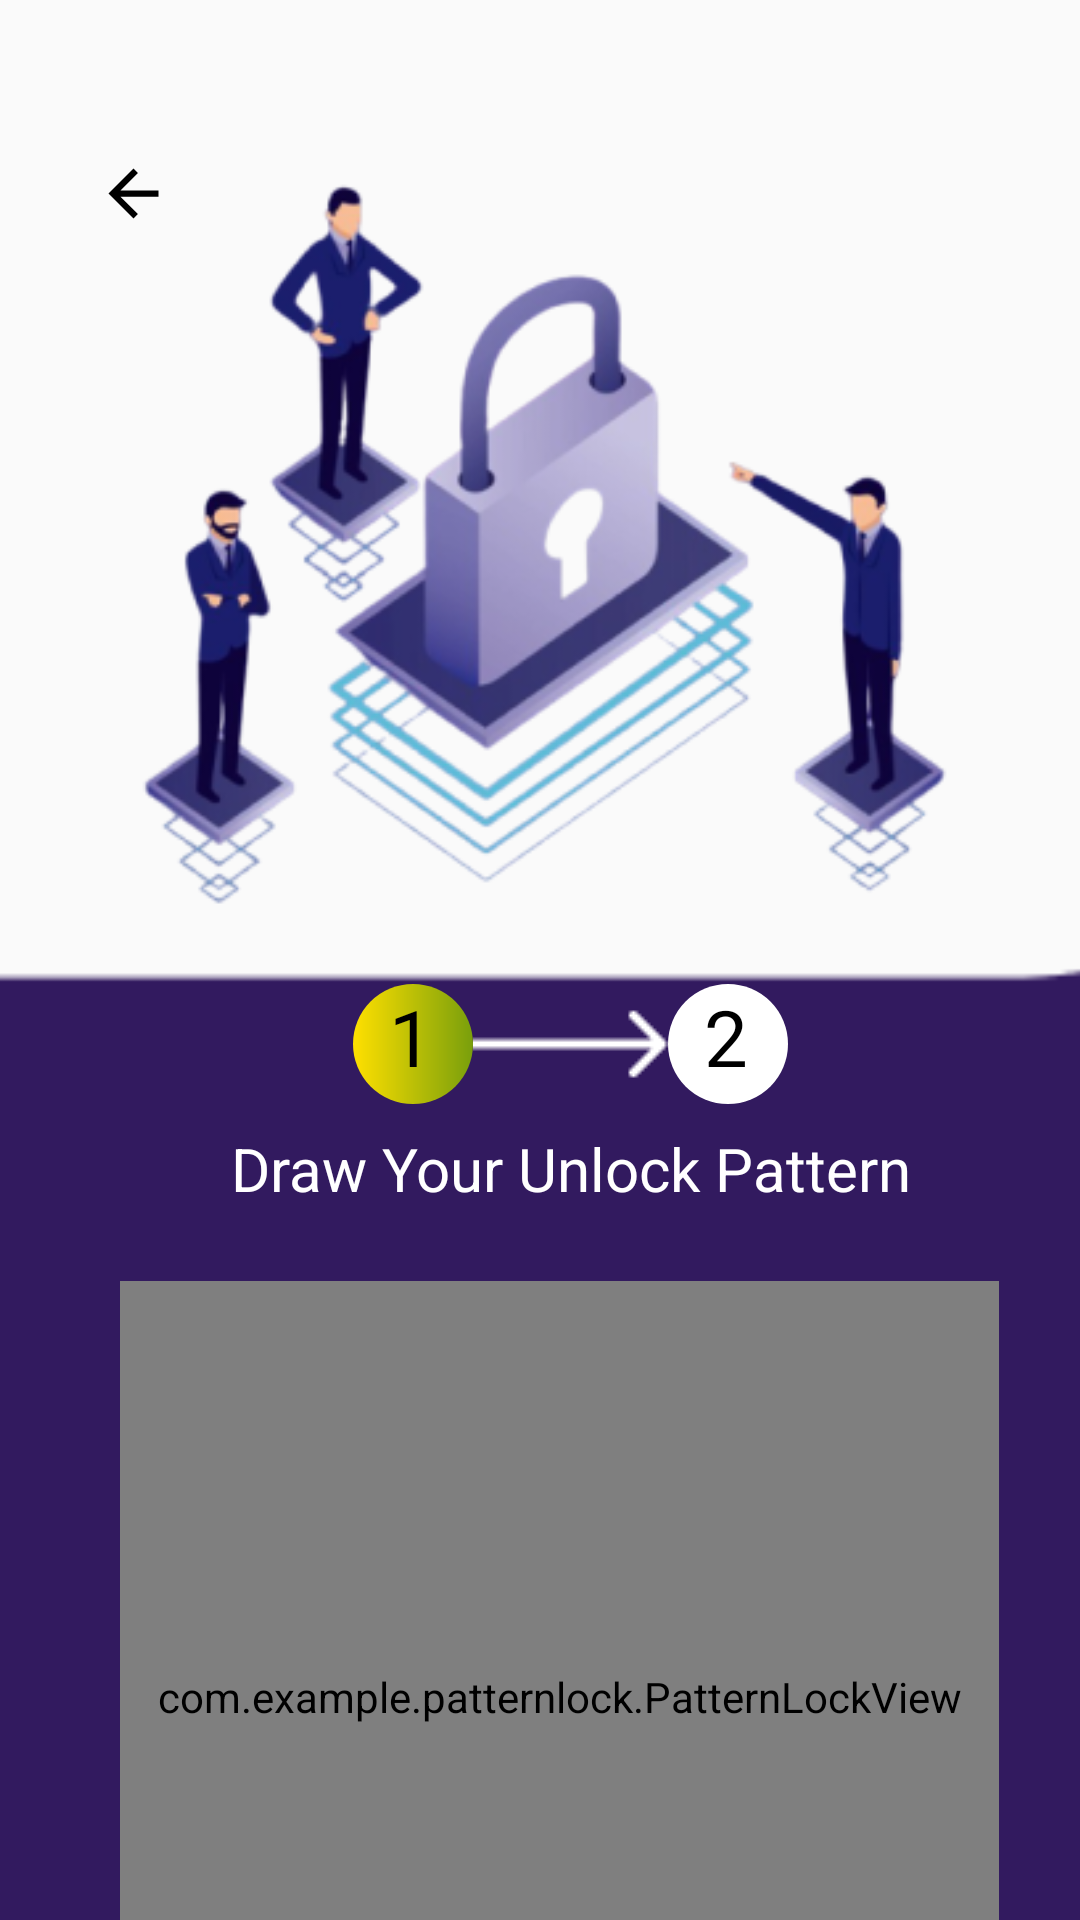

Screen size 1080w x 1920h. Icon name, then its center in pixels as (x,y):
arrow back: (133,193)
whitearrow: (570,1044)
